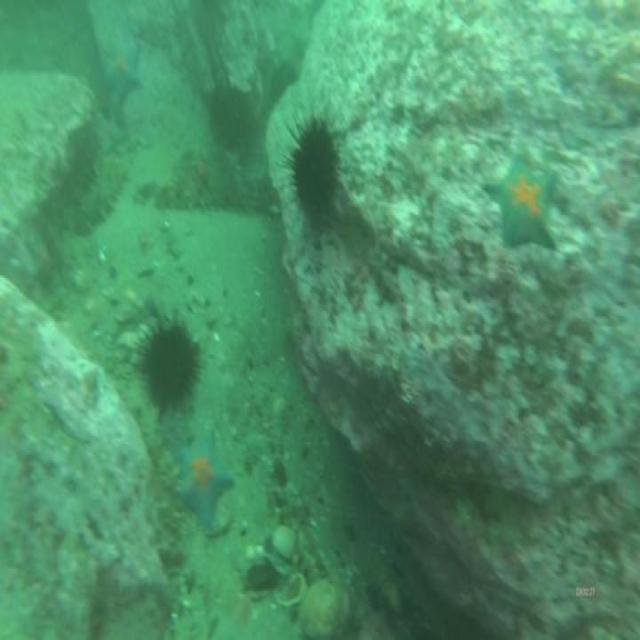echinus: (289, 125, 339, 221), (144, 327, 196, 401), (209, 87, 242, 142), (270, 57, 300, 98)
holothurian: (74, 158, 124, 235), (156, 185, 214, 213)
starfish: (486, 155, 556, 246), (172, 435, 234, 526), (98, 40, 143, 110)
